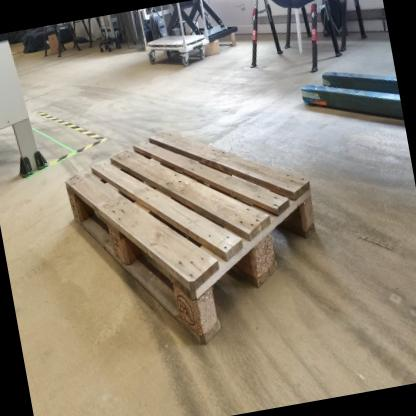BoxFace: (57, 118, 321, 355)
